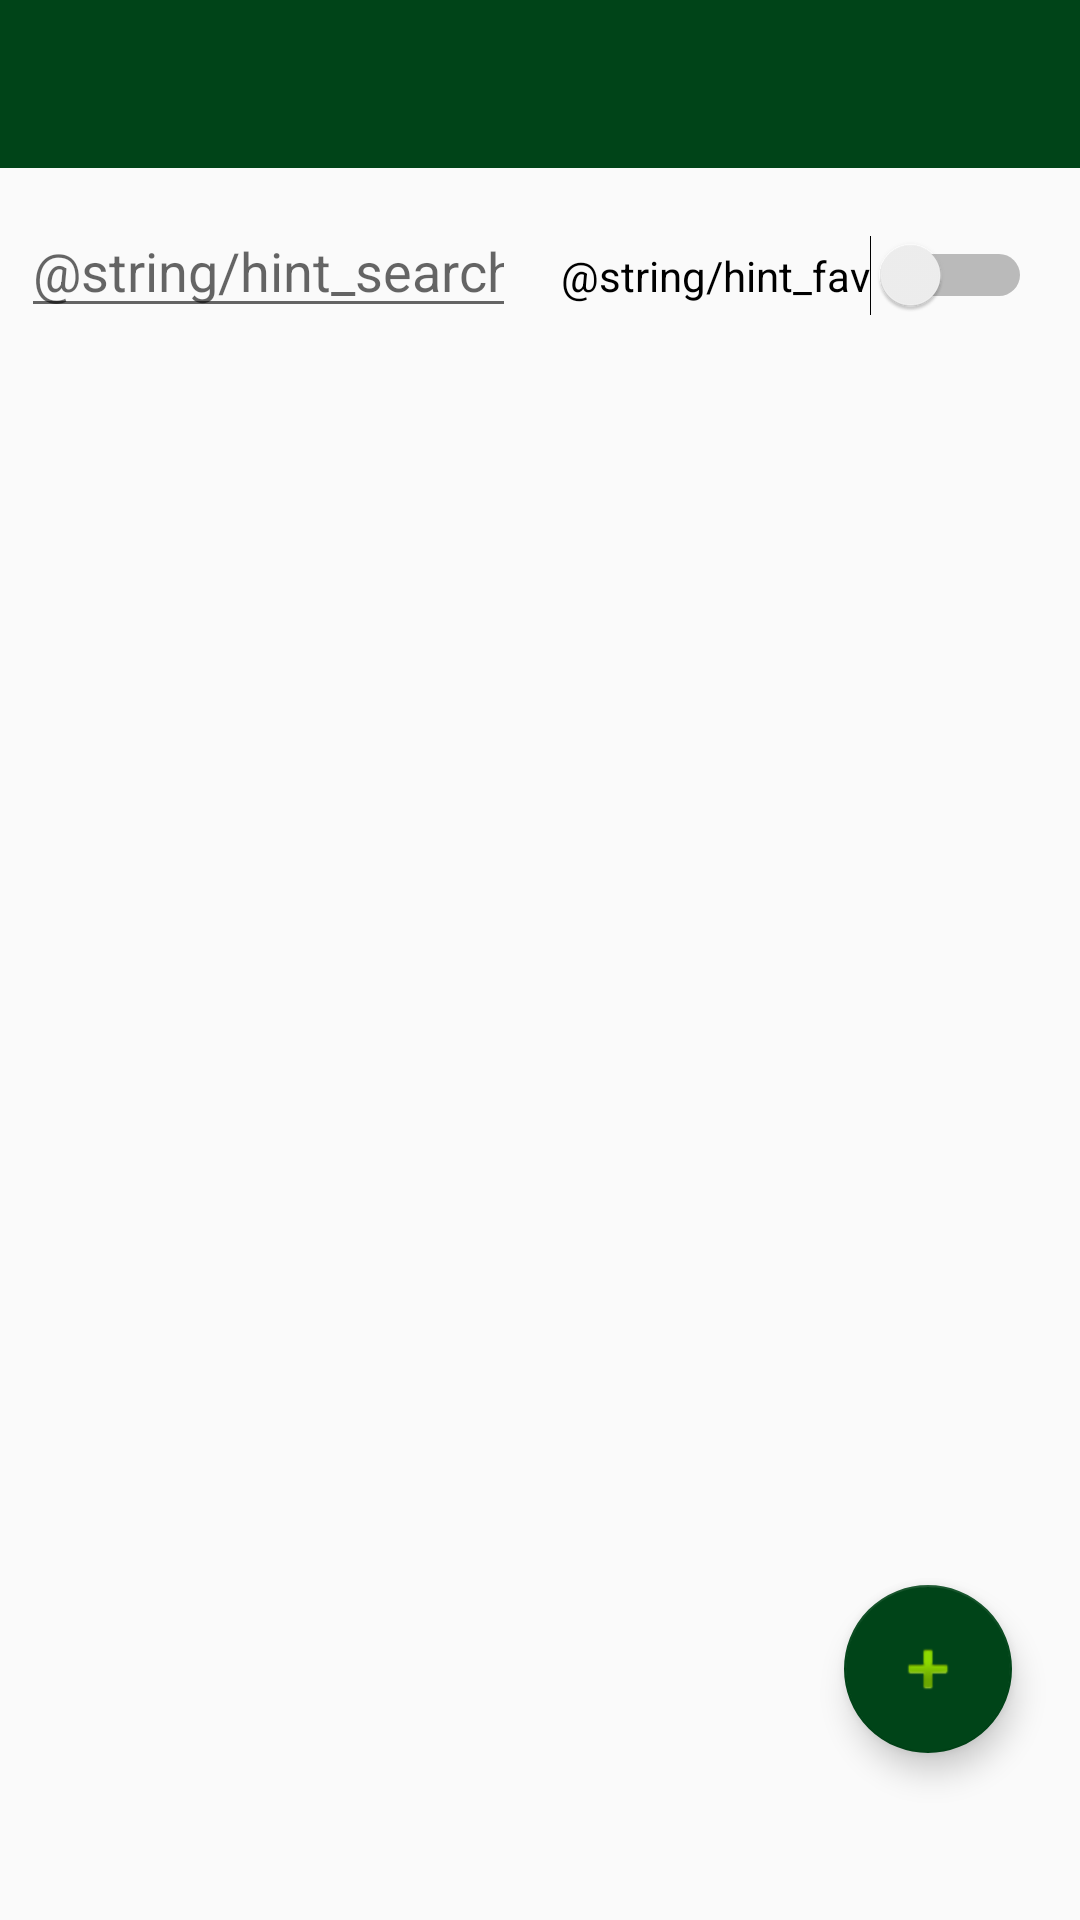

Icon bounding boxes for this 1080*1920 phone screenshot, format {"left": x1, "top": y1, "right": x2, "bottom": y2}:
add: {"left": 844, "top": 1585, "right": 1012, "bottom": 1753}
